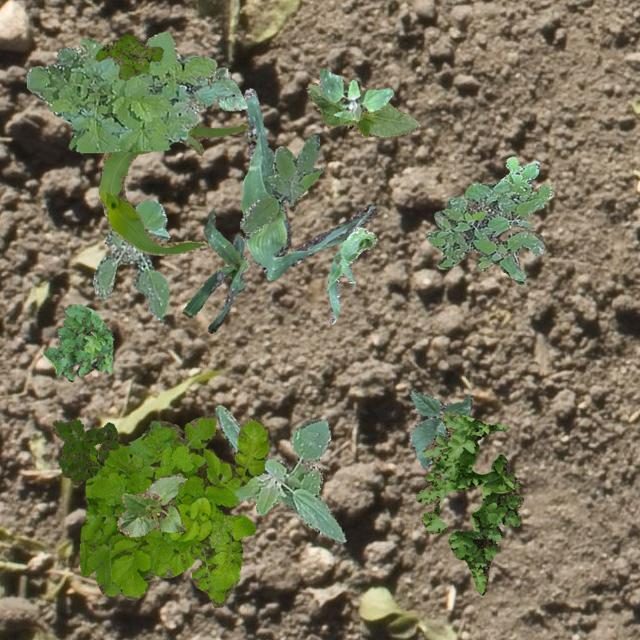crop: (240, 88, 376, 280), (98, 122, 248, 255), (182, 210, 248, 332), (306, 82, 418, 136), (408, 390, 472, 468), (326, 225, 376, 322), (116, 472, 186, 536), (180, 54, 247, 110)
weed: (79, 414, 268, 606), (26, 30, 238, 152), (416, 410, 522, 594), (214, 404, 344, 542), (426, 156, 550, 284), (92, 200, 168, 320), (238, 134, 322, 232), (42, 304, 112, 381), (52, 418, 118, 483), (318, 68, 392, 120), (94, 34, 162, 80)
